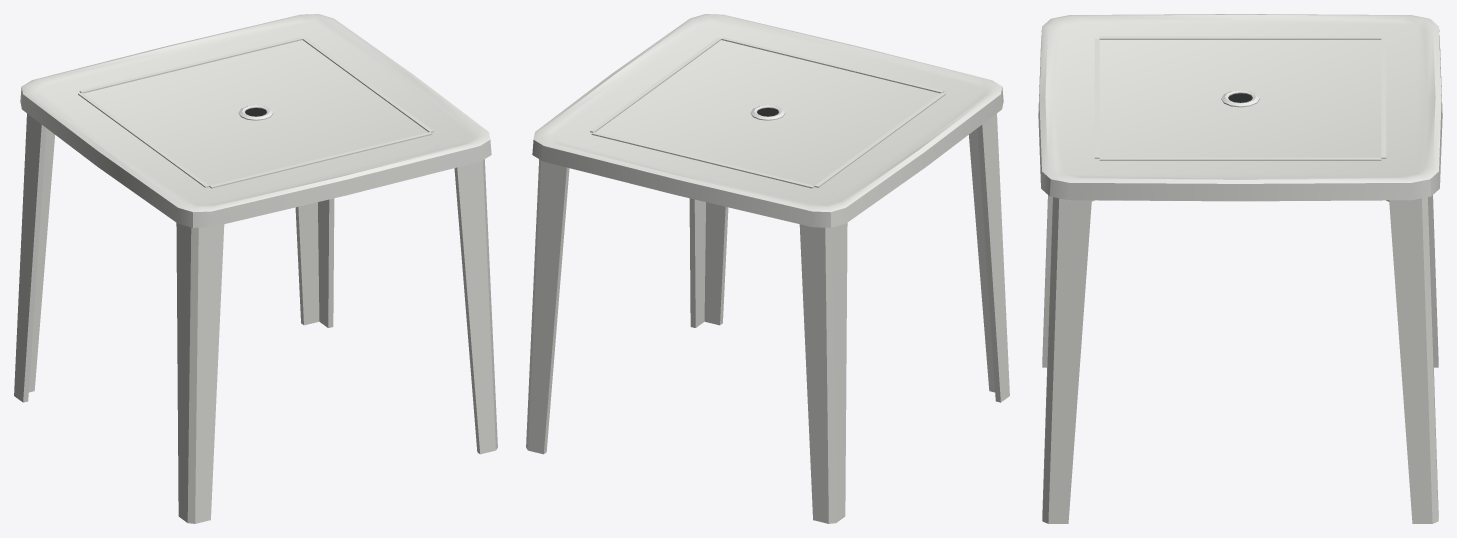
Rendered from SC_Ter_Table_Plastic_Square_White.gltf.
The picture shows the model from 3 angles, left to right: view 1: azimuth 30°, elevation 25°; view 2: azimuth 150°, elevation 25°; view 3: azimuth 270°, elevation 25°; orthographic projection. The views are drawn at different scales.
Parts seen in each view (by area): view 1: SC_Ter_Table_Plastic_Square_White; view 2: SC_Ter_Table_Plastic_Square_White; view 3: SC_Ter_Table_Plastic_Square_White.
Part boxes in pixels (<box>): SC_Ter_Table_Plastic_Square_White: <box>14,14,497,523</box>; SC_Ter_Table_Plastic_Square_White: <box>526,14,1009,523</box>; SC_Ter_Table_Plastic_Square_White: <box>1038,14,1442,523</box>.
Bounding box in the file's own units: 0.804 × 0.7535 × 0.804.
Materials: 1 (1 with a texture image).
